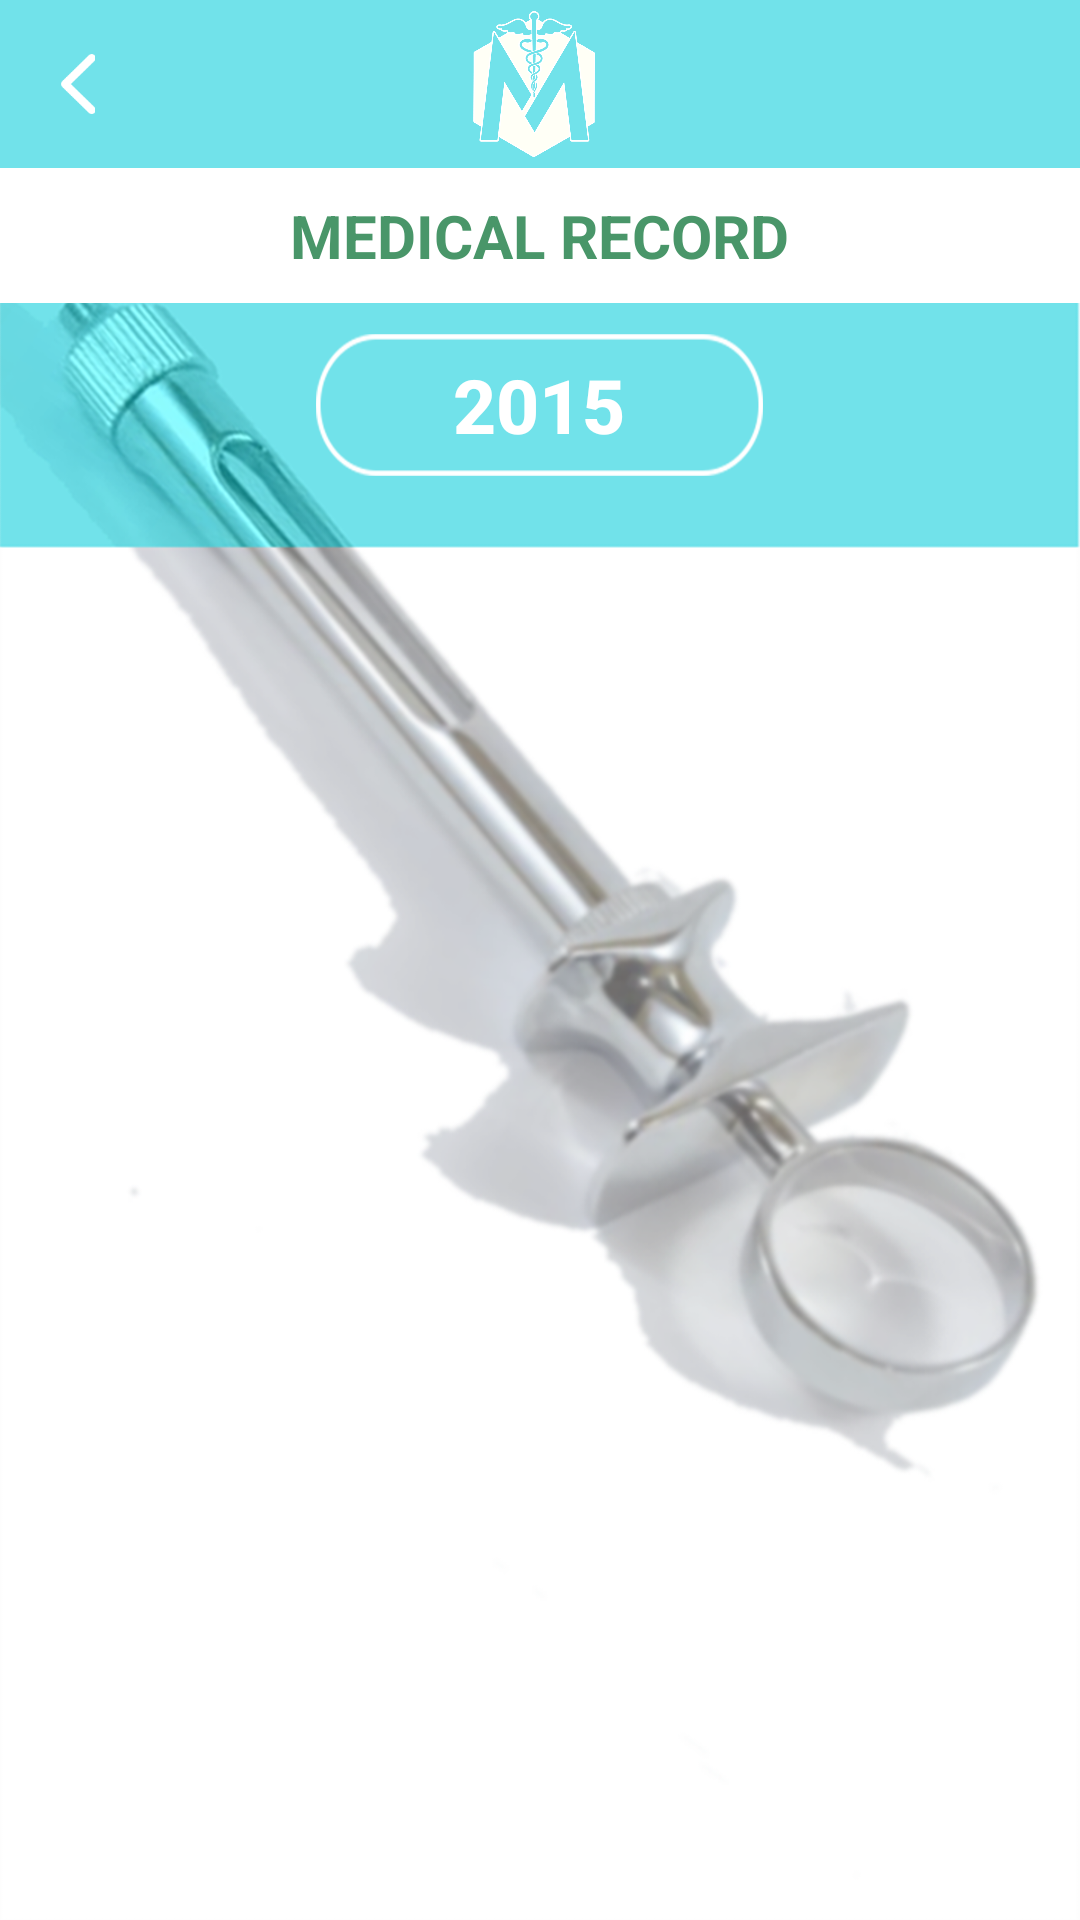

Point at icon controls on the screen. Image size 1080*1920, points as (x=x, y=y).
bak: (x=78, y=84)
